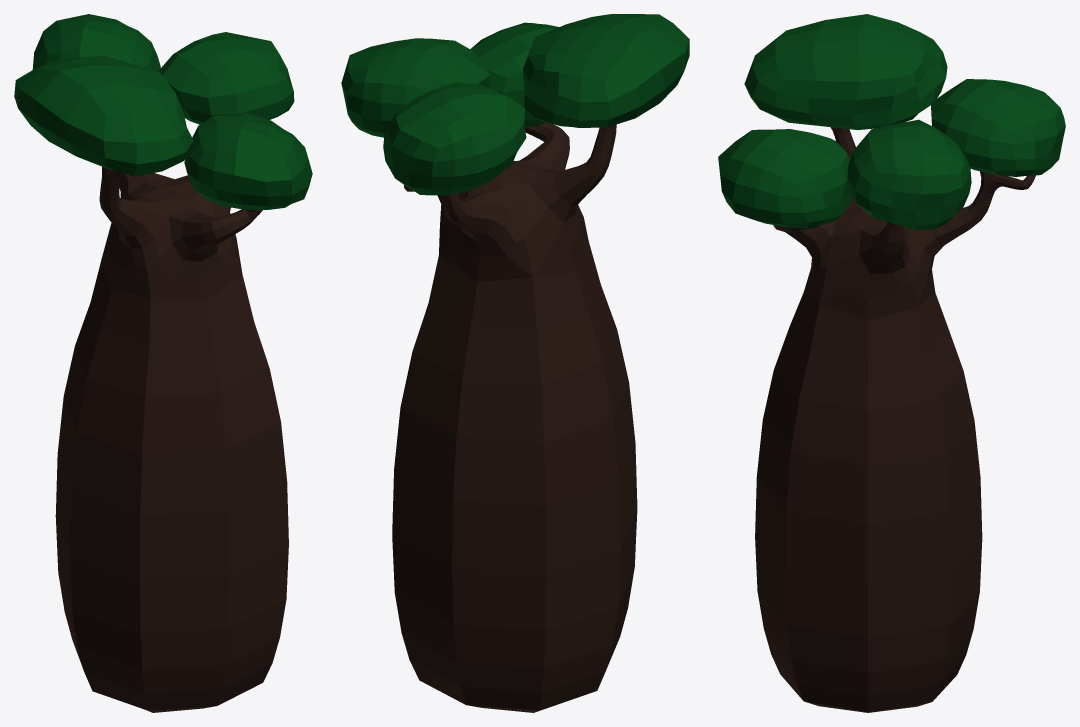
Rendered from lp_tree_5_Cube_034.obj.
The picture shows the model from 3 angles, left to right: view 1: azimuth 30°, elevation 25°; view 2: azimuth 150°, elevation 25°; view 3: azimuth 270°, elevation 25°; orthographic projection. The views are drawn at different scales.
Parts seen in each view (by area): view 1: lp_tree_5_Cube_034; view 2: lp_tree_5_Cube_034; view 3: lp_tree_5_Cube_034.
Part boxes in pixels (x1,y1,x2,y2): lp_tree_5_Cube_034: [14, 14, 312, 712]; lp_tree_5_Cube_034: [341, 14, 689, 712]; lp_tree_5_Cube_034: [718, 14, 1065, 712].
Size of the model in its own units: 5.97 by 13.53 by 6.81.
